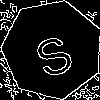S: (27, 25, 77, 80)
